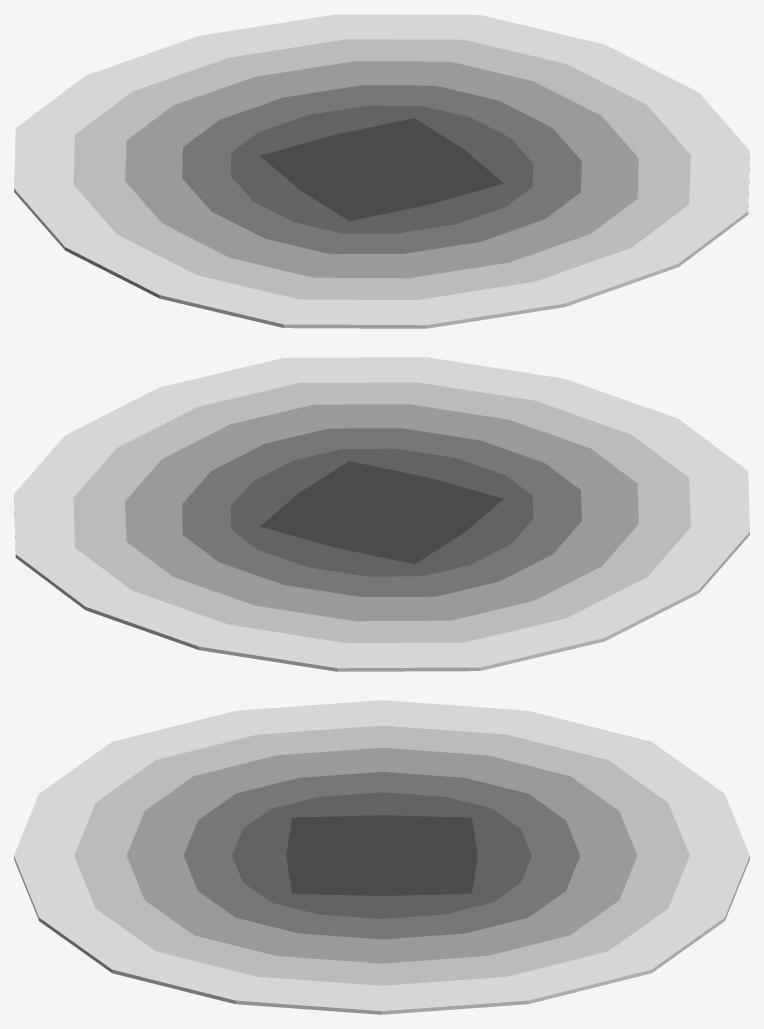
Rendered from CarpetModel.fbx.
The picture shows the model from 3 angles, top to bottom: view 1: azimuth 30°, elevation 25°; view 2: azimuth 150°, elevation 25°; view 3: azimuth 270°, elevation 25°; orthographic projection.
Parts seen in each view (by area): view 1: CarpetModel; view 2: CarpetModel; view 3: CarpetModel.
Boxes of the visible parts, x1=… form: CarpetModel: x1=14, y1=14, x2=749, y2=328; CarpetModel: x1=14, y1=357, x2=749, y2=671; CarpetModel: x1=14, y1=700, x2=749, y2=1014.
Size of the model in its own units: 357 by 1.95 by 357.
